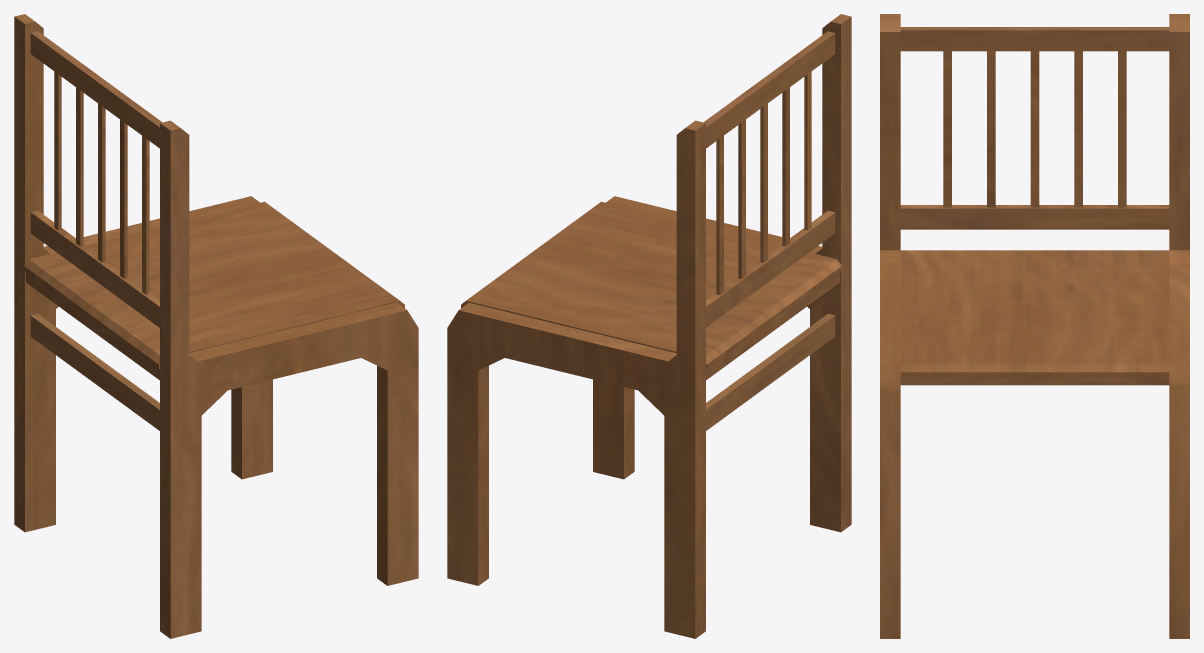
Rendered from stool_1.FBX.
3 views of the same model, side by side, from view 1: azimuth 30°, elevation 25°; view 2: azimuth 150°, elevation 25°; view 3: azimuth 270°, elevation 25° (orthographic).
Parts seen in each view (by area): view 1: stool_1; view 2: stool_1; view 3: stool_1.
Part boxes in pixels (x1,y1,x2,y2): stool_1: (14, 14, 418, 638); stool_1: (447, 14, 851, 638); stool_1: (880, 14, 1189, 638).
Bounding box in the file's own units: 19.14 × 37.32 × 20.76.
